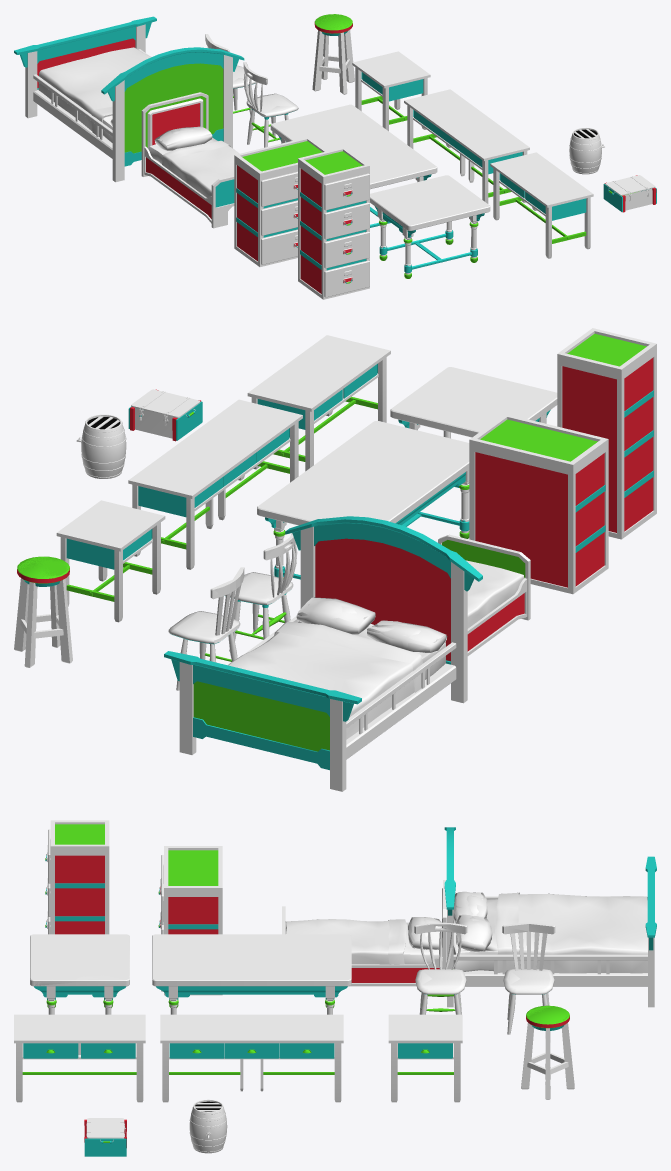
The model's file is Furniture00.fbx.
3 views of the same model, one above another, from view 1: azimuth 30°, elevation 25°; view 2: azimuth 150°, elevation 25°; view 3: azimuth 270°, elevation 25° (orthographic). The views are drawn at different scales.
Visible parts, largest first — view 1: BedWood01_LOD00, Box023, Box065, Box098, Box028, Box104, Box039, Box079, BedWood00_LOD0, Box092, Box046, Box037 (+24 smaller); view 2: BedWood01_LOD00, Box065, Box104, Box079, Box023, Box092, Box028, Box039, Box044, Box037, Box098, Box105 (+21 smaller); view 3: BedWood01_LOD00, Box023, Box065, Box028, Box044, BedWood00_LOD0, Box105, Box042, Box039, Box079, Box092, Box037 (+26 smaller).
Part boxes in pixels (x1,y1,x2,y2): BedWood01_LOD00: (38,47,244,182); Box023: (270,104,437,189); Box065: (298,147,369,299); Box098: (141,92,234,228); Box028: (404,89,529,169); Box104: (14,16,156,118); Box039: (370,175,490,230); Box079: (234,139,324,266); BedWood00_LOD0: (149,137,239,197); Box092: (234,137,327,264); Box046: (491,152,593,212); Box037: (312,14,354,94); BedWood01_LOD00: (228,516,482,739); Box065: (557,328,656,539); Box104: (164,651,361,791); Box079: (469,447,608,594); Box023: (257,420,469,525); Box092: (469,414,608,592); Box028: (129,400,302,510); Box039: (390,367,557,437); Box044: (248,335,390,423); Box037: (14,556,72,667); Box098: (438,534,530,655); Box105: (245,616,456,759); BedWood01_LOD00: (444,827,647,1007); Box023: (152,934,351,986); Box065: (50,820,109,934); Box028: (160,1014,343,1059); Box044: (14,1014,145,1059); BedWood00_LOD0: (285,919,439,964); Box105: (453,896,647,986); Box042: (31,934,129,986); Box039: (30,934,129,986); Box079: (164,848,222,995); Box092: (164,846,222,993); Box037: (521,1005,574,1099).
Size of what is drawn, in the model's own units: 121 by 35.72 by 147.
